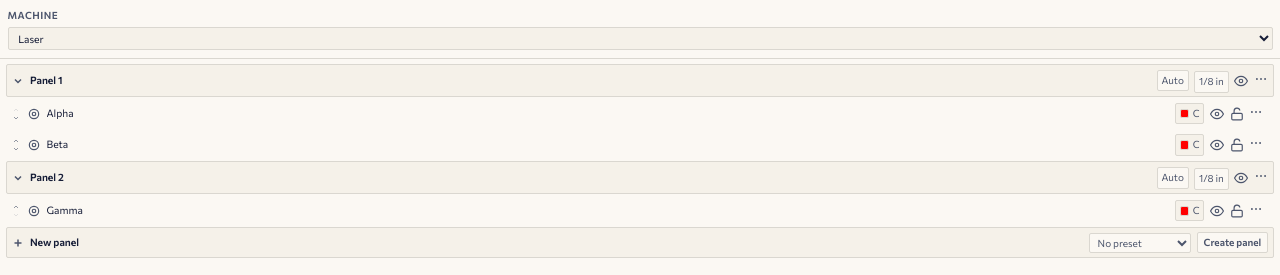
Test: LayerTree — Move to panel… (row ⋯ menu → picker popper) › picking the CURRENT panel just closes the picker without reassigning
The width and height of the screenshot is (1280, 275).
Click the 3rd button named "Row actions" at (1256, 209), box [1249,202,1263,216]
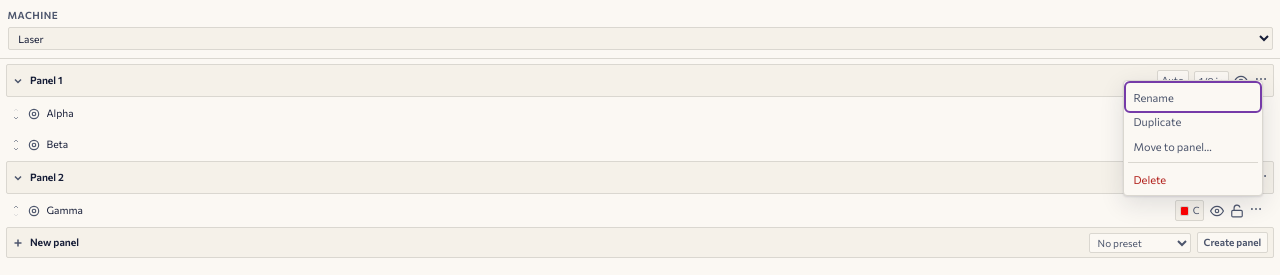
Click the menu item "Move to panel…" at (1173, 146), box [1134,140,1212,153]
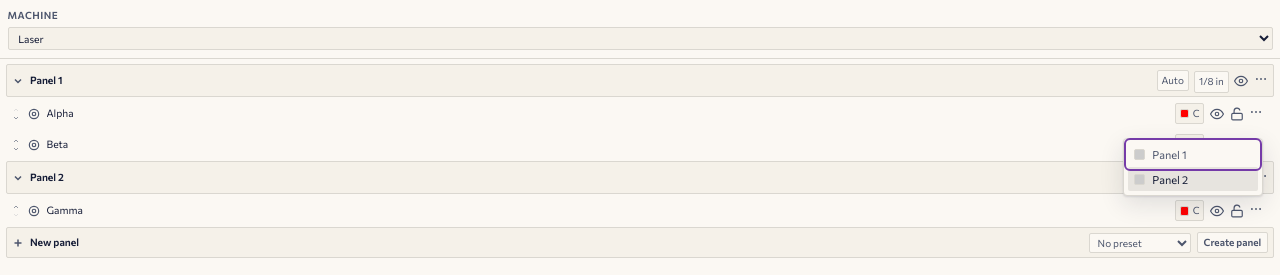
expect the menu item "Panel 2" is shown: met
Click the menu item "Panel 2" at (1193, 179), box [1128,167,1258,191]
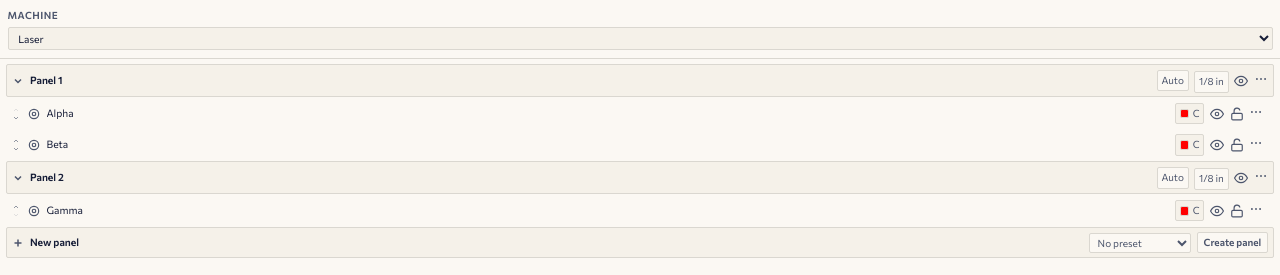
expect the menu with test id "move-to-panel-picker" is gone: met
